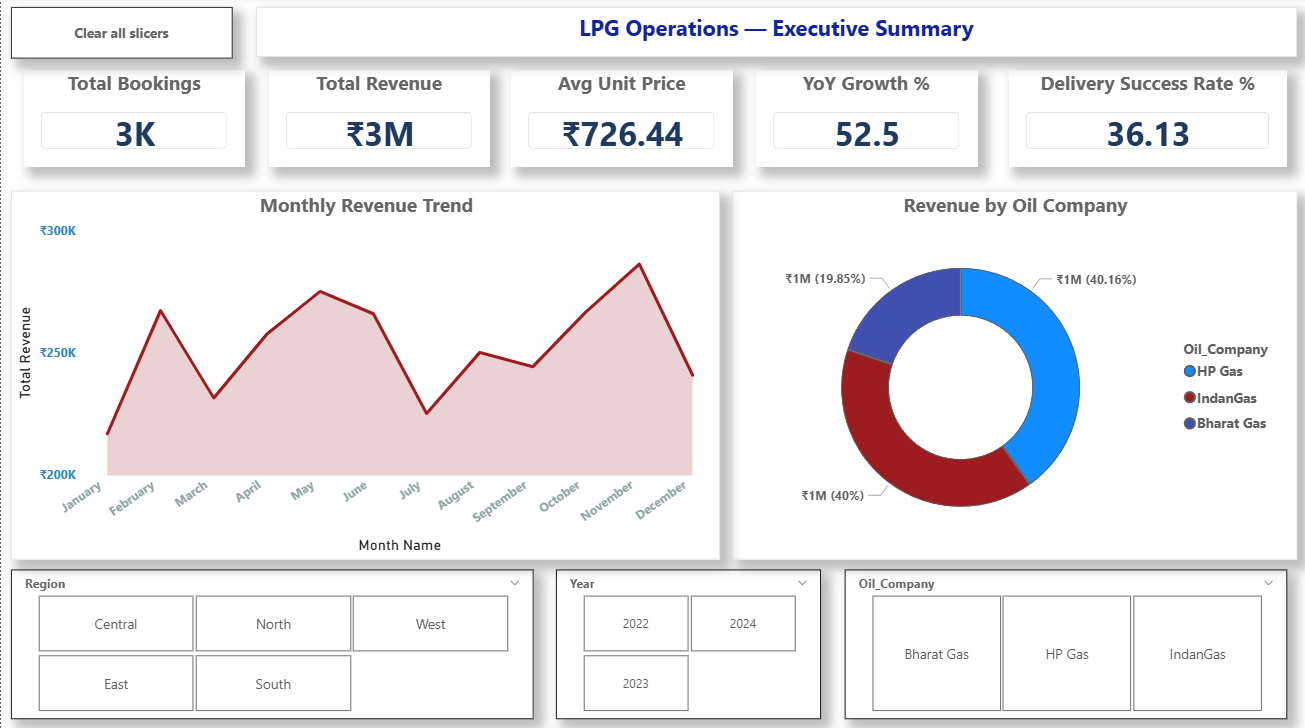

The dashboard page shown, as its layout file describes it:
{"tool":"powerbi","page":{"name":"Executive Summary","canvas":[1280,720],"ordinal":0},"visuals":[{"type":"textbox","box":[249.6,10.1,1018.6,49.1],"z":0},{"type":"cardVisual","title":"Total Bookings","fields":{"Data":["_Measures.Total Bookings"]},"box":[21.8,70.7,216.4,95.2],"z":1000},{"type":"cardVisual","title":"Total Revenue","fields":{"Data":["_Measures.Total Revenue"]},"box":[261.3,70.7,216.4,95.2],"z":2000},{"type":"cardVisual","title":"YoY Growth %","fields":{"Data":["_Measures.YoY Growth %"]},"box":[738.8,70.7,216.4,95.2],"z":3000},{"type":"cardVisual","title":"Avg Unit Price","fields":{"Data":["_Measures.Avg Unit Price"]},"box":[499.3,70.7,216.4,95.2],"z":4000},{"type":"cardVisual","title":"Delivery Success Rate %","fields":{"Data":["_Measures.Delivery Success Rate %"]},"box":[985.5,70.7,272.7,95.2],"z":5000},{"type":"lineChart","title":"Monthly Revenue Trend","fields":{"Category":["Date_Table.Year Hierarchy.Year","Date_Table.Year Hierarchy.Month Name"],"Y":["_Measures.Total Revenue"]},"box":[10.1,189,694,360.7],"z":6000},{"type":"donutChart","title":"Revenue by Oil Company","fields":{"Y":["_Measures.Total Revenue"],"Category":["LPG_Operations.Oil_Company"]},"box":[715.6,189,552.6,360.7],"z":7000},{"type":"slicer","fields":{"Values":["Date_Table.Year"]},"box":[542.9,560.1,259.2,146.7],"z":8000},{"type":"slicer","fields":{"Values":["LPG_Operations.Oil_Company"]},"box":[825.4,560.1,432.9,146.7],"z":9000},{"type":"slicer","fields":{"Values":["LPG_Operations.Region"]},"box":[9.8,560.1,511.1,146.7],"z":10000},{"type":"actionButton","box":[9.8,9.8,216.4,50.1],"z":11000}]}

Visuals, with their boxes in screenshot pixels (x1, y1, x2, y2), scaled from the page's 1280x720 canvas onto the 1305x728 screenshot:
textbox: [left=254, top=10, right=1293, bottom=60]
"Total Bookings" cardVisual: [left=22, top=71, right=243, bottom=168]
"Total Revenue" cardVisual: [left=266, top=71, right=487, bottom=168]
"YoY Growth %" cardVisual: [left=753, top=71, right=974, bottom=168]
"Avg Unit Price" cardVisual: [left=509, top=71, right=730, bottom=168]
"Delivery Success Rate %" cardVisual: [left=1005, top=71, right=1283, bottom=168]
"Monthly Revenue Trend" lineChart: [left=10, top=191, right=718, bottom=556]
"Revenue by Oil Company" donutChart: [left=730, top=191, right=1293, bottom=556]
slicer - Date_Table.Year: [left=554, top=566, right=818, bottom=715]
slicer - LPG_Operations.Oil_Company: [left=842, top=566, right=1283, bottom=715]
slicer - LPG_Operations.Region: [left=10, top=566, right=531, bottom=715]
actionButton: [left=10, top=10, right=231, bottom=61]
